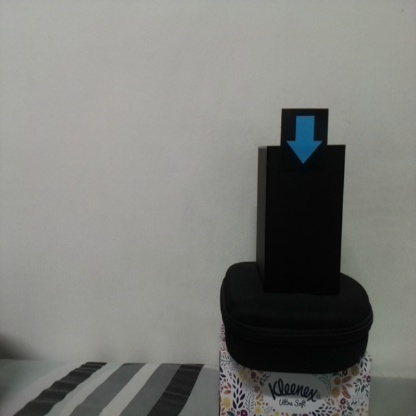id_2: (281, 108, 328, 173)
